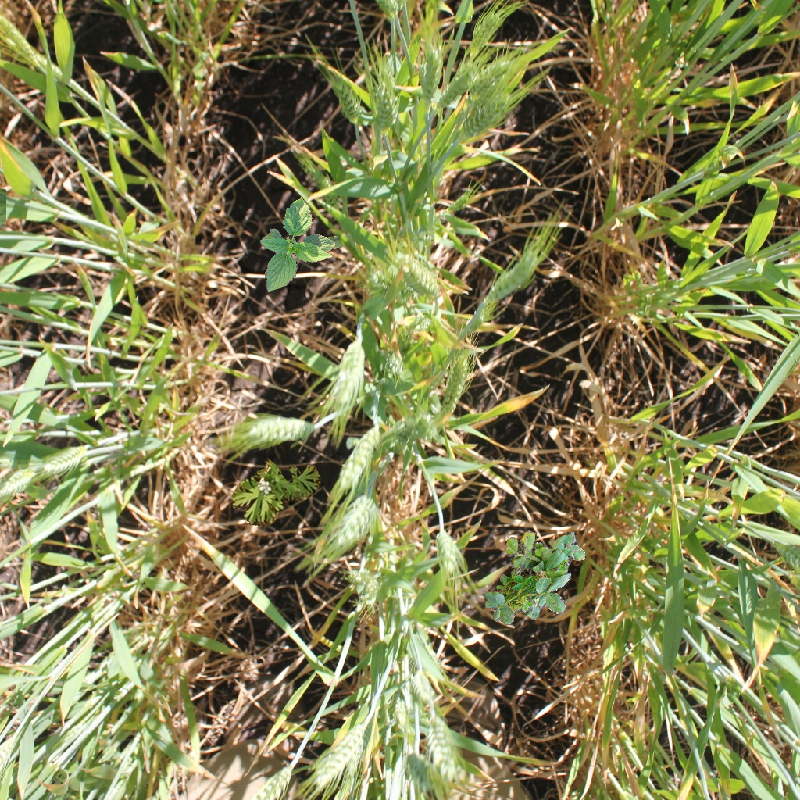spikelet: (308, 715, 374, 793), (414, 696, 464, 783), (337, 423, 383, 489), (457, 91, 513, 140), (329, 492, 377, 547), (330, 338, 366, 405), (395, 251, 442, 301), (240, 760, 298, 800), (245, 414, 312, 444), (441, 352, 472, 410), (468, 56, 512, 95), (41, 443, 90, 476), (373, 349, 408, 395), (333, 83, 369, 126), (432, 528, 464, 574), (349, 566, 381, 608), (1, 464, 38, 500), (373, 84, 399, 130), (773, 539, 800, 569), (373, 1, 407, 15)
weed: (471, 528, 582, 629), (230, 456, 328, 544), (259, 198, 334, 291)
